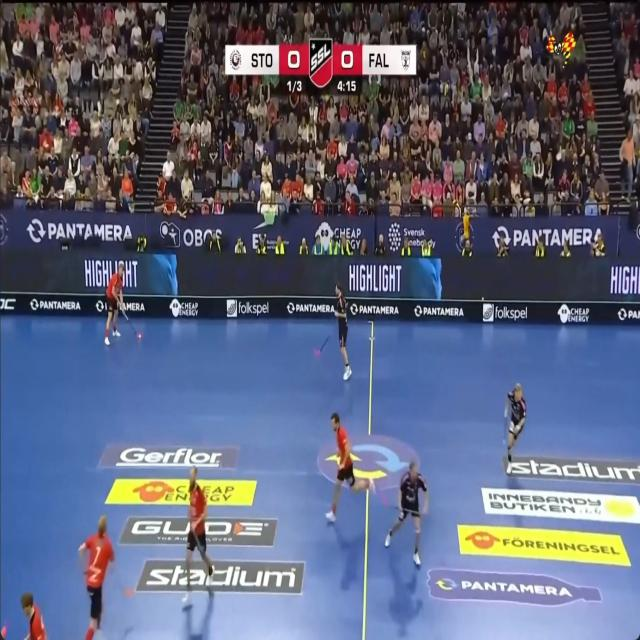Balls: (137, 333, 142, 339)
player: (326, 412, 374, 521), (384, 461, 428, 566), (78, 515, 114, 639), (183, 466, 213, 604), (506, 383, 526, 474), (104, 263, 124, 345), (334, 284, 351, 379), (20, 594, 46, 639)
stick: (120, 306, 138, 336), (314, 333, 331, 355)
